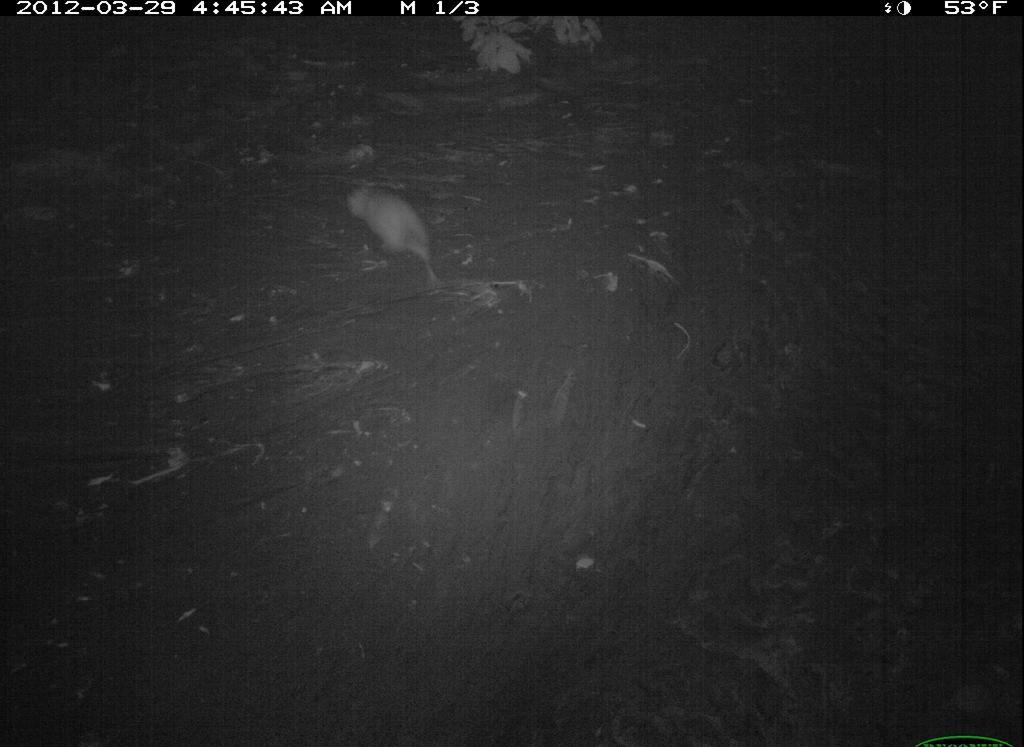opossum: (323, 155, 456, 294)
